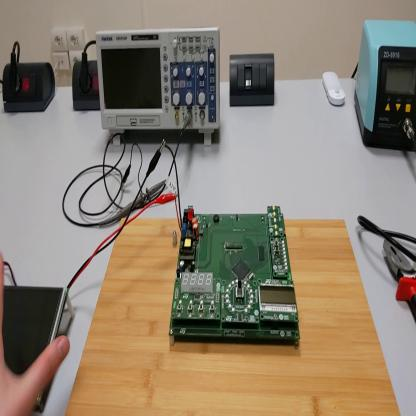hand: (2, 255, 71, 416)
low voltage board: (162, 141, 303, 348)
oscilloscope: (100, 28, 223, 146)
oscilloscope probe tip: (101, 180, 166, 229)
pliers: (383, 239, 416, 321)
socket: (3, 65, 57, 114), (74, 59, 102, 118)
welder station: (355, 17, 415, 155)
working area: (69, 209, 400, 415)
